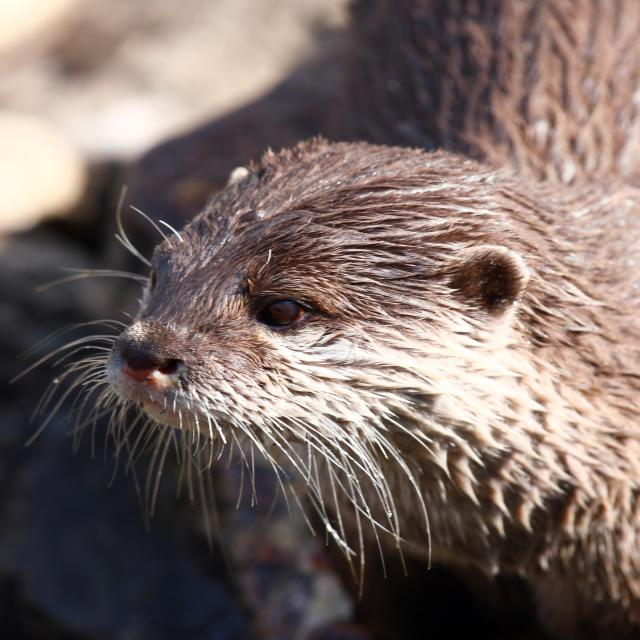otter: (109, 143, 640, 602)
